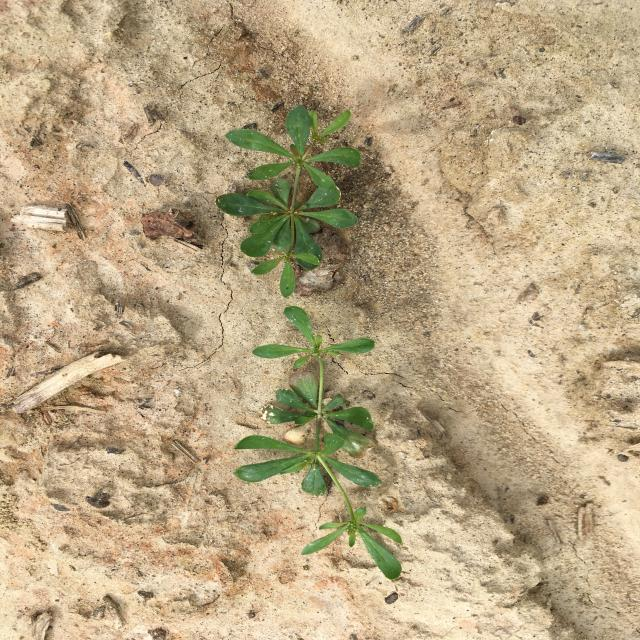Carpetweed: (233, 306, 404, 580), (214, 104, 363, 298)
